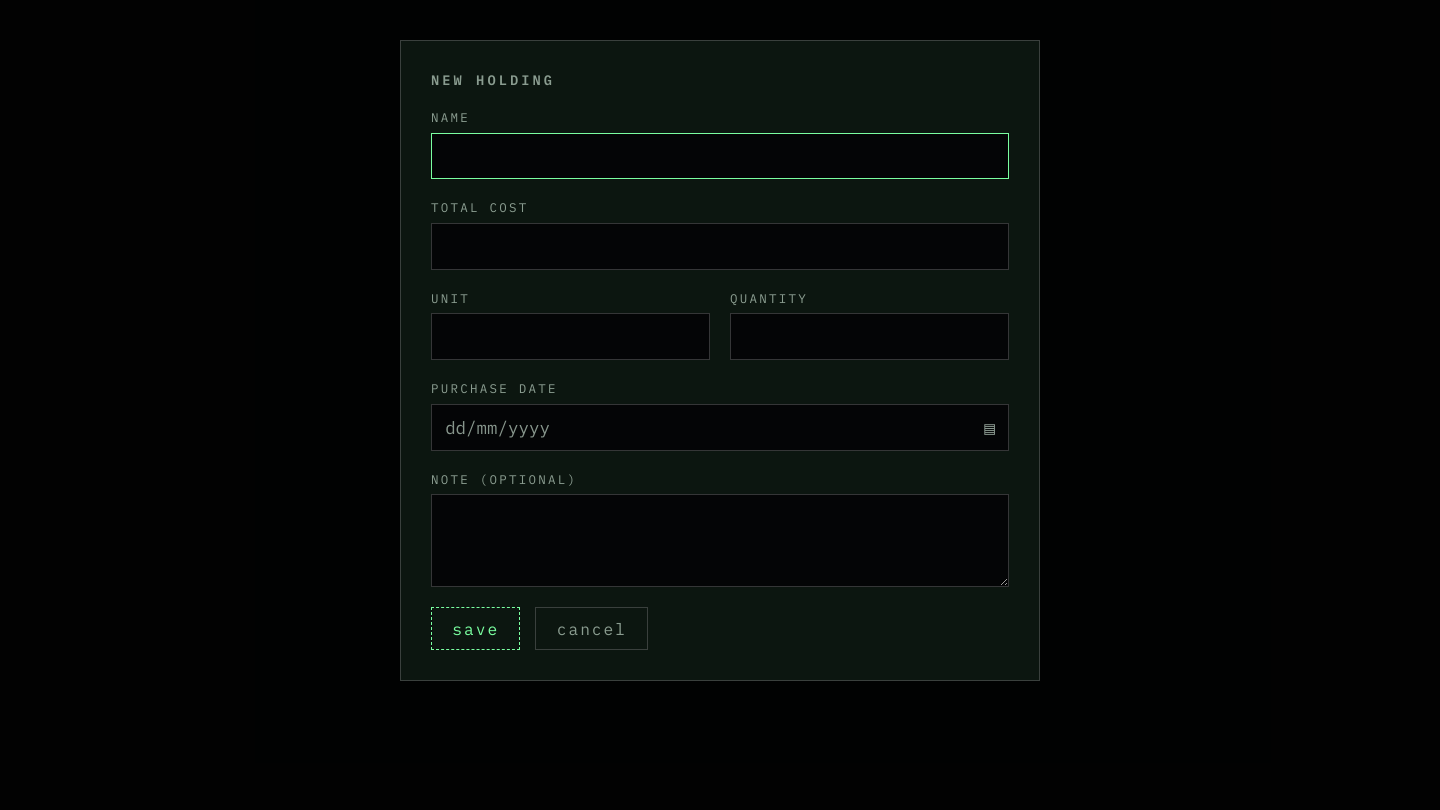
Test case: HoldingForm › rejects a zero or negative total cost
Type "Apple" into the field labelled "NAME".
click(720, 156); type("Apple")  # box x1=431 y1=132 x2=1009 y2=179
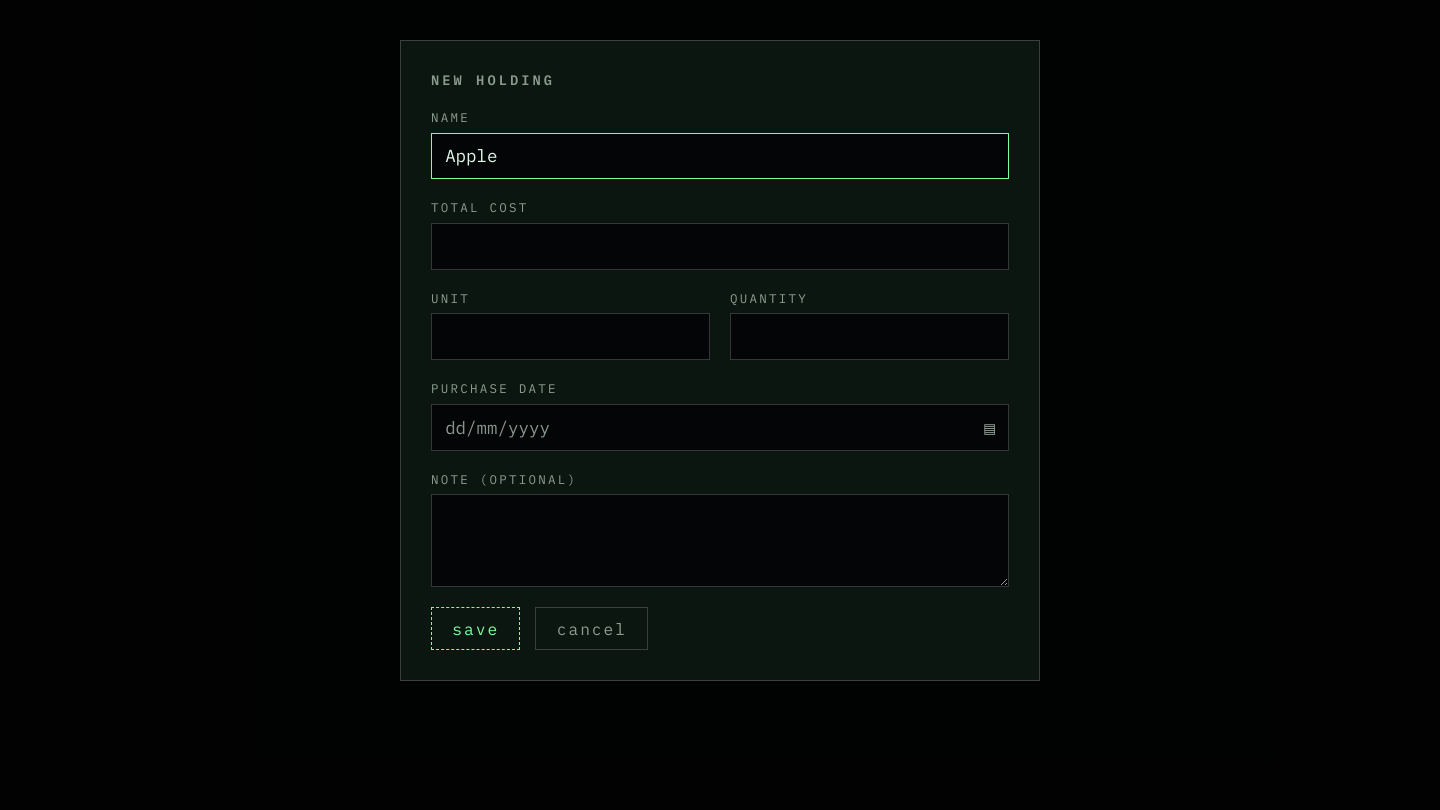
Type "0" into the number field labelled "TOTAL COST".
click(720, 246); type("0")  # box x1=431 y1=223 x2=1009 y2=270
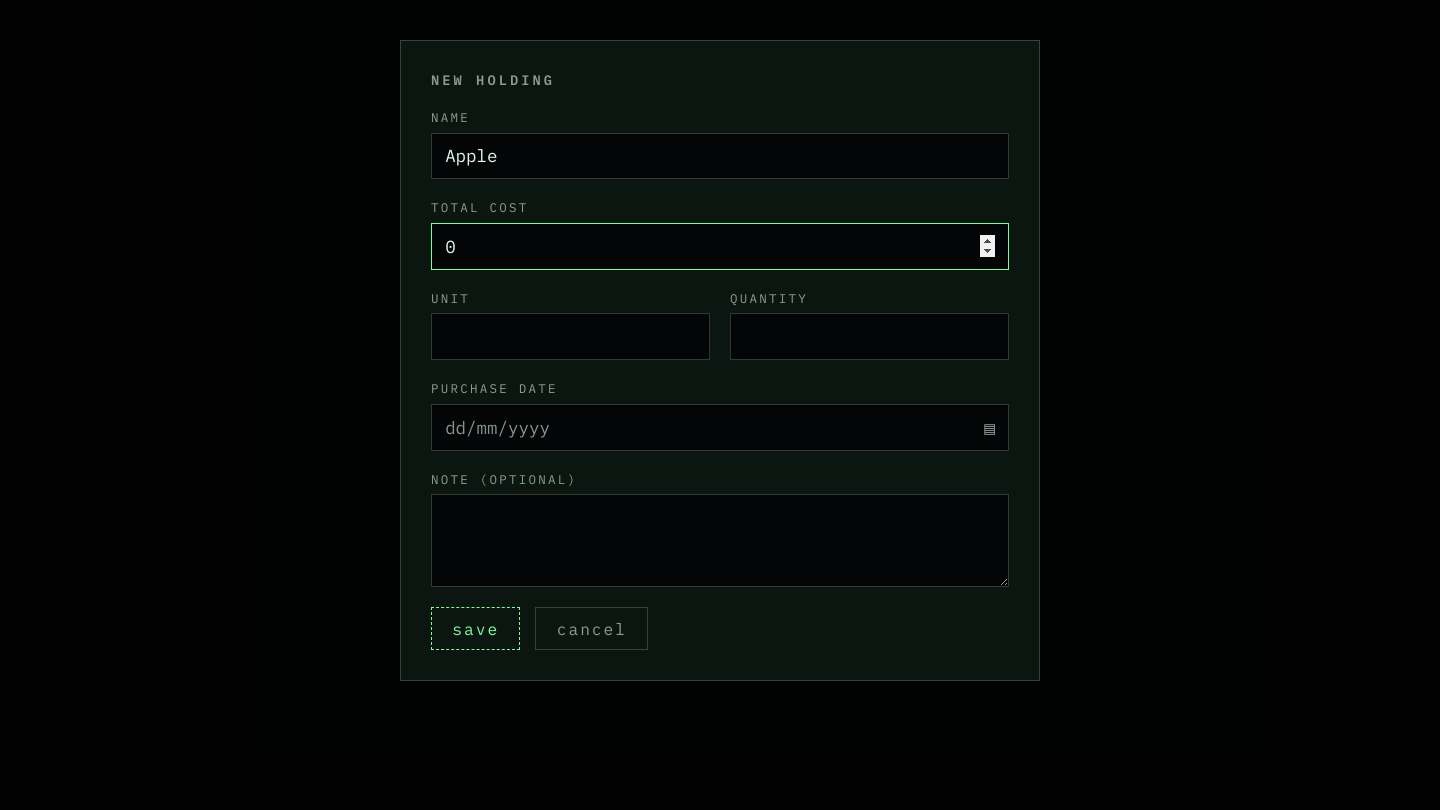
Type "2" into the number field labelled "QUANTITY".
click(870, 337); type("2")  # box x1=730 y1=313 x2=1009 y2=360
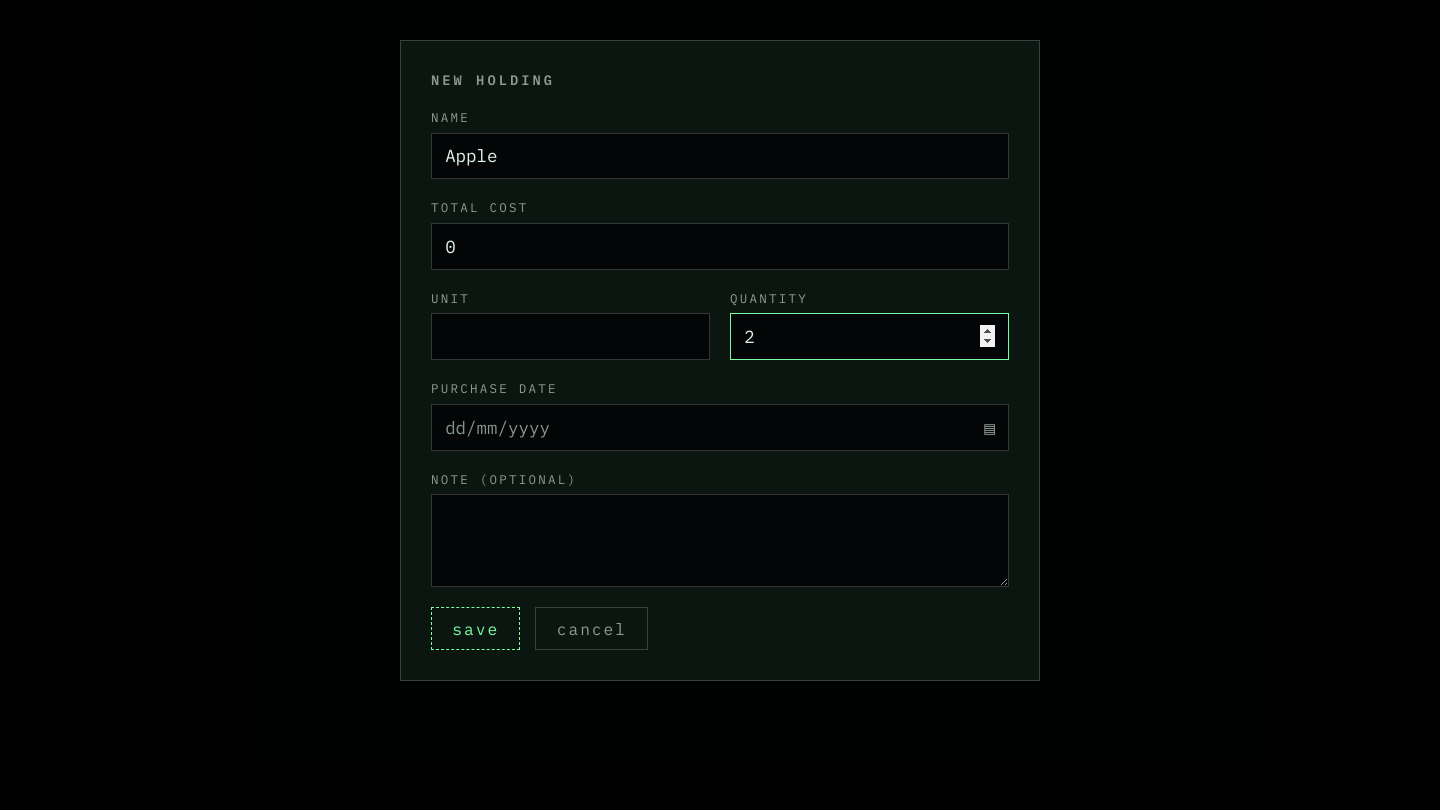
Click the button "save".
click(476, 629)  # box x1=431 y1=607 x2=520 y2=650
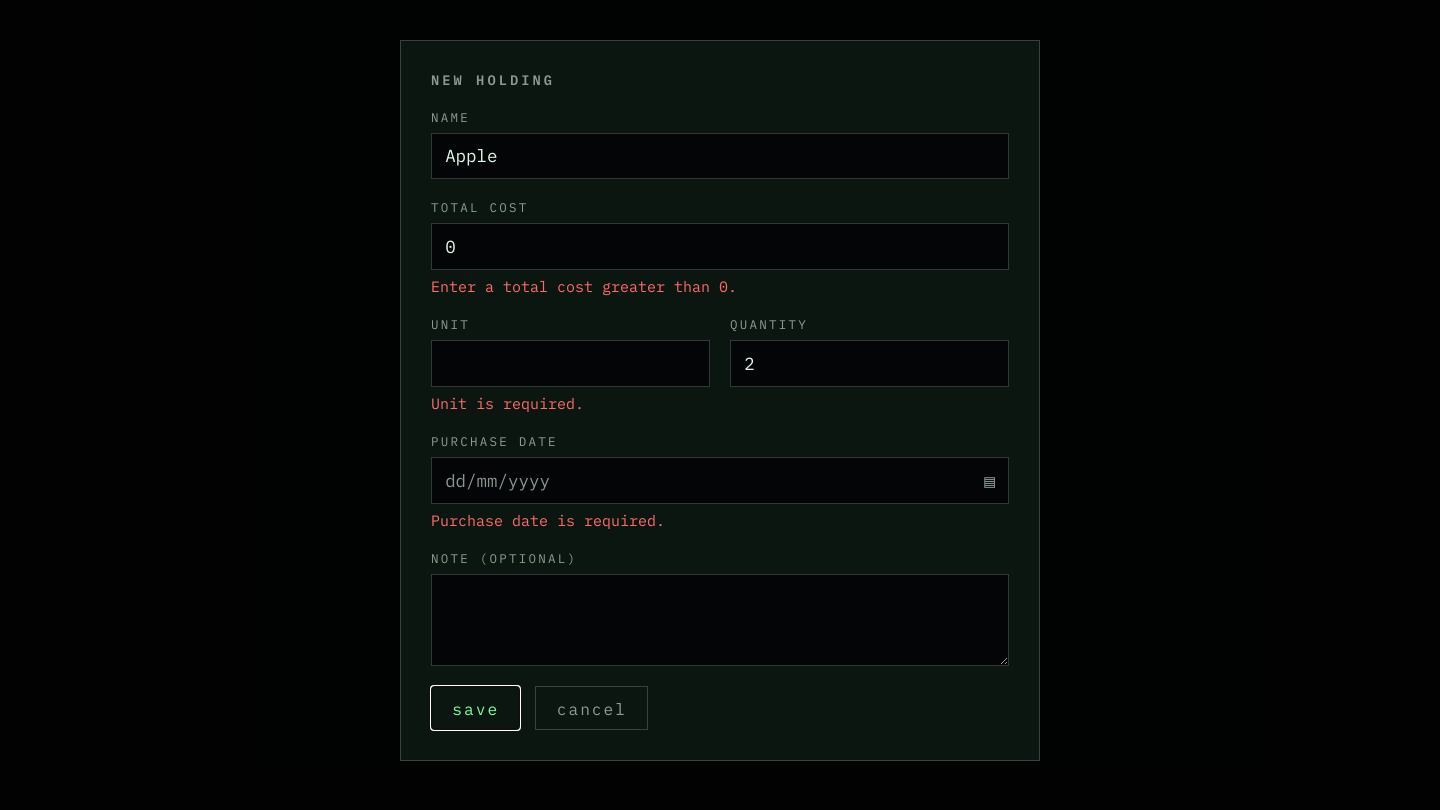
Check: the text "Enter a total cost greater than 0." is shown, box x1=431 y1=277 x2=737 y2=296
